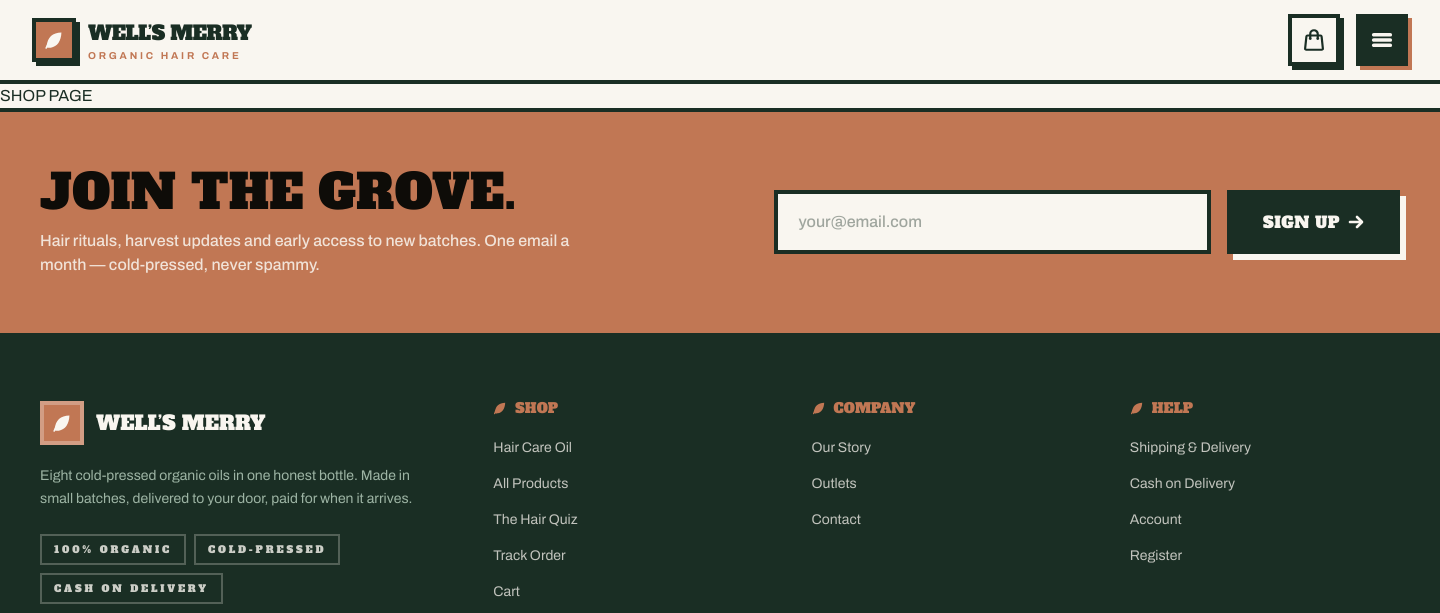
Test: Navbar overlay › closes before navigating when Home is clicked from another page
The width and height of the screenshot is (1440, 613).
Click the button named "open menu" at x=1382, y=40, box [1356,14,1408,66]
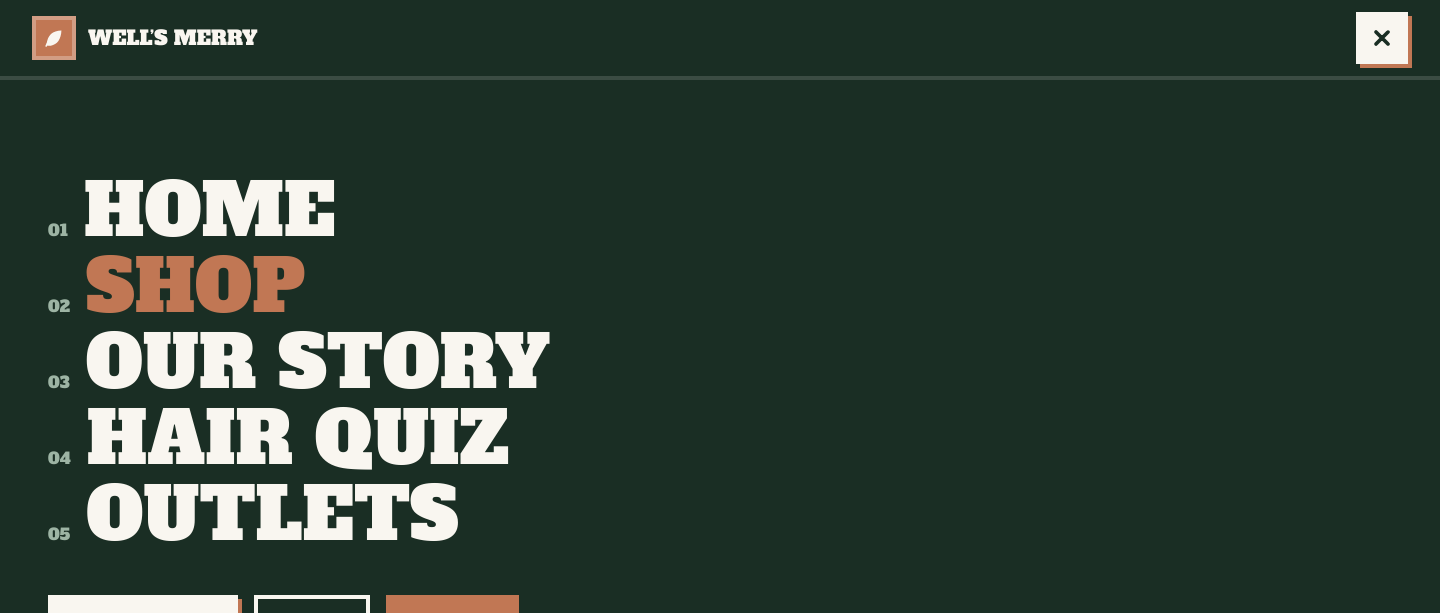
Click the link "01 Home" at x=192, y=210, box [48,161,335,260]
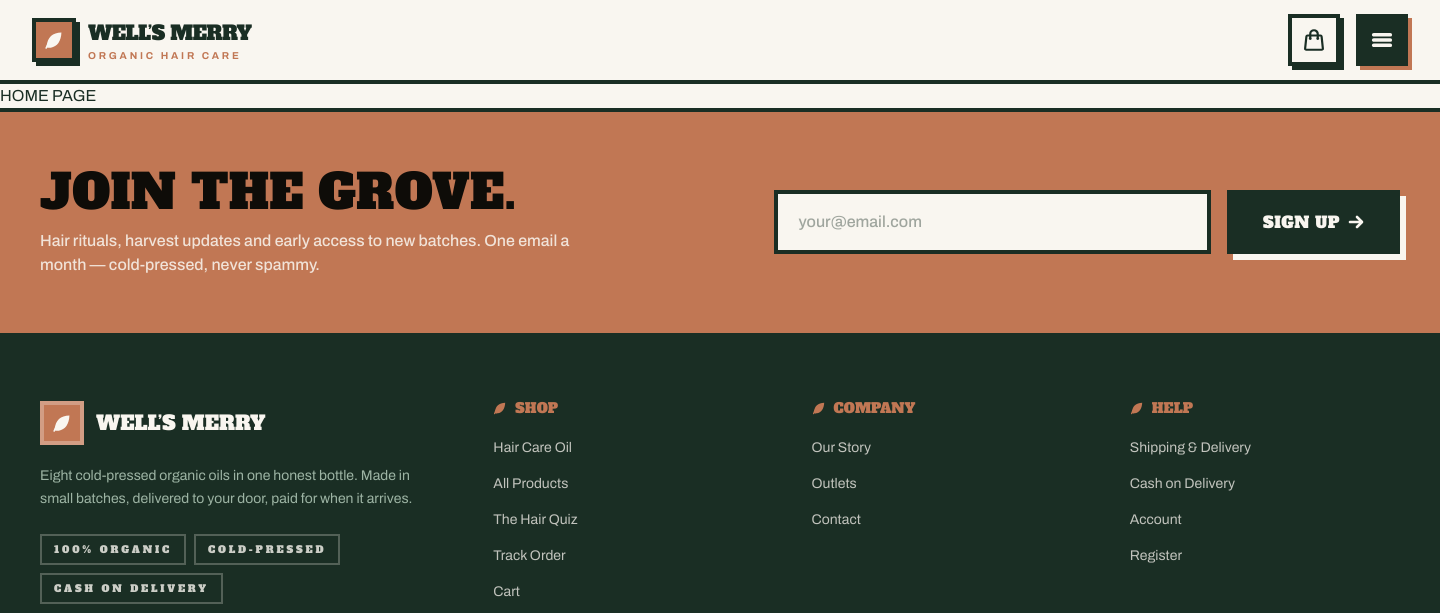
Expected: the text "HOME PAGE" is shown, [0,87,96,104]
